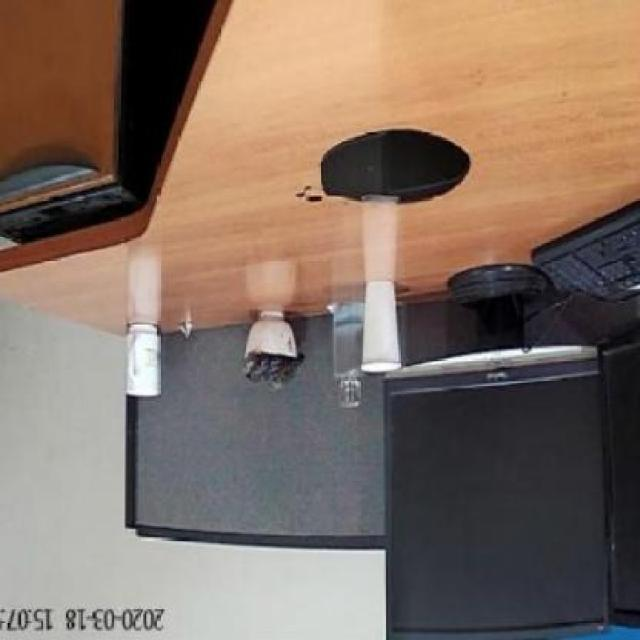spillage: (290, 127, 471, 206)
